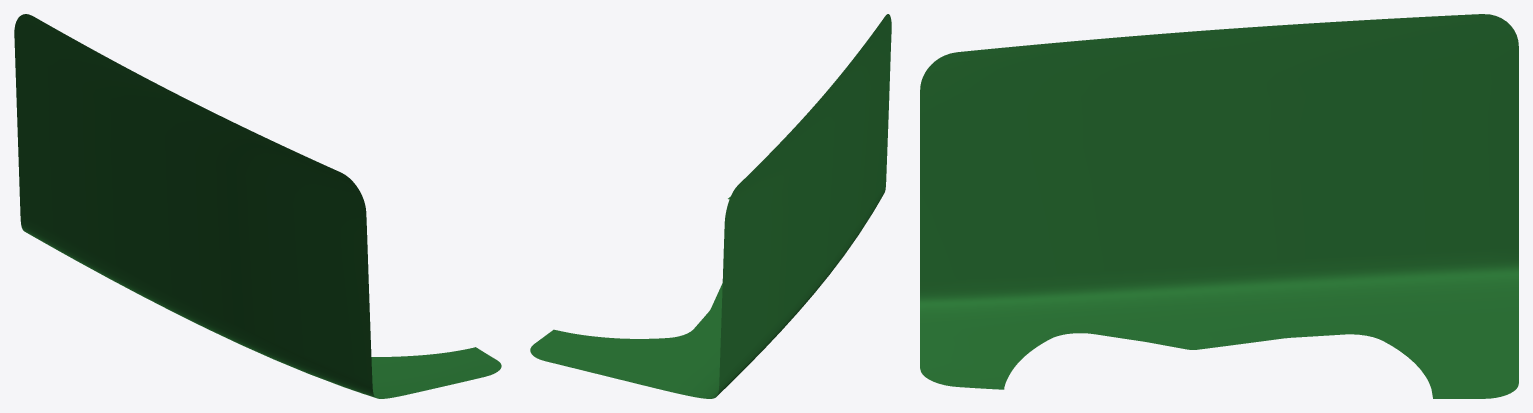
File: Ruben_GF_test_Cover_FR.glb
3 renders of one model, left to right at view 1: azimuth 30°, elevation 25°; view 2: azimuth 150°, elevation 25°; view 3: azimuth 270°, elevation 25°, orthographic. The views are drawn at different scales.
Visible parts, largest first — view 1: Leon.013; view 2: Leon.013; view 3: Leon.013.
Part boxes in pixels (x1=…): Leon.013: x1=14, y1=14, x2=501, y2=398; Leon.013: x1=530, y1=14, x2=891, y2=398; Leon.013: x1=920, y1=14, x2=1518, y2=398.
Bounding box in the file's own units: 0.00322 × 0.00313 × 0.0065.
1 material, 1 textured.
